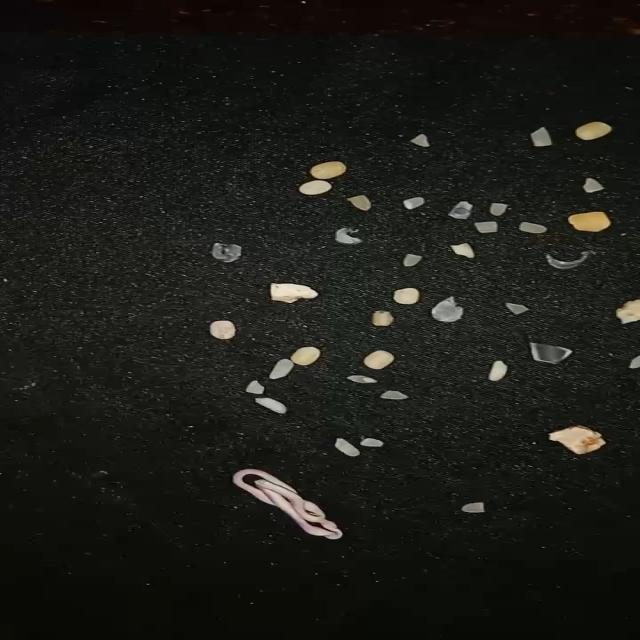Broken: (531, 128, 552, 146), (348, 196, 372, 210), (451, 244, 475, 258), (519, 222, 547, 233), (584, 178, 604, 193), (506, 302, 529, 315), (380, 390, 409, 400), (404, 197, 425, 210), (245, 380, 264, 394), (410, 134, 430, 147), (490, 202, 508, 216), (346, 376, 377, 384), (474, 222, 497, 232), (462, 502, 484, 512), (360, 438, 384, 447), (404, 254, 422, 266), (629, 356, 640, 368)
Full: (269, 358, 294, 379), (256, 398, 286, 413), (335, 438, 360, 456), (488, 360, 508, 381)
